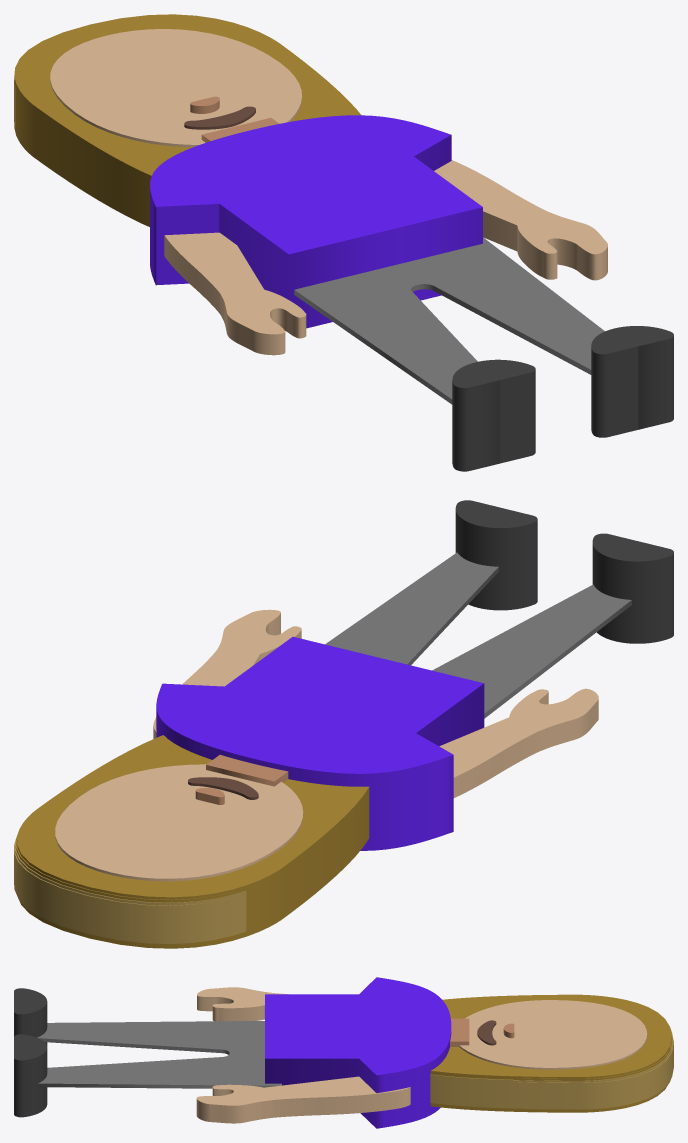
The model's file is emoji_u1f9cd_1f3fc_200d_2640.glb.
3 views of the same model, one above another, from view 1: azimuth 30°, elevation 25°; view 2: azimuth 150°, elevation 25°; view 3: azimuth 270°, elevation 25° (orthographic). The views are drawn at different scales.
Visible parts, largest first — view 1: emoji_u1f9cd_1f3fc_200d_2640; view 2: emoji_u1f9cd_1f3fc_200d_2640; view 3: emoji_u1f9cd_1f3fc_200d_2640.
Part boxes in pixels (bbox=[...]): emoji_u1f9cd_1f3fc_200d_2640: bbox=[14, 14, 673, 471]; emoji_u1f9cd_1f3fc_200d_2640: bbox=[14, 500, 673, 948]; emoji_u1f9cd_1f3fc_200d_2640: bbox=[14, 977, 673, 1128].
Size of the model in its own units: 0.0145 by 0.0032 by 0.0337.
